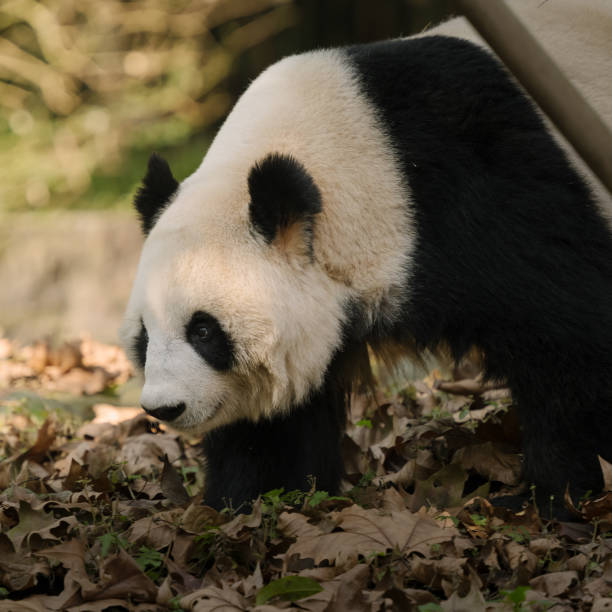panda: (106, 132, 362, 452)
